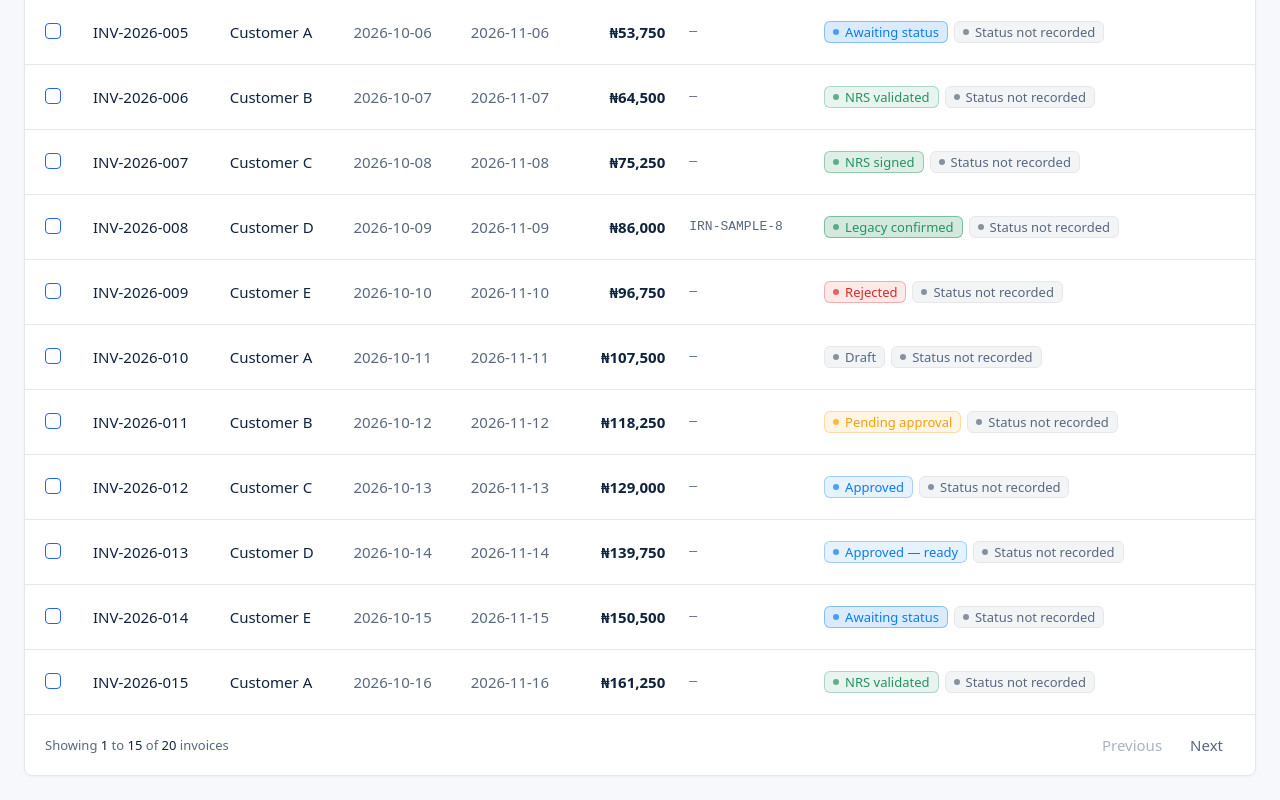
Test case: Invoices Page Workflow › 2. Client-side pagination › paginates 15 rows per page and displays accurate counts
The width and height of the screenshot is (1280, 800).
(page scrolled)
Check: the link "INV-2026-015" is shown, box [93,672,188,692]
Check: the text "INV-2026-016" is not shown
Navigation to the next page
What coordinates should you click on to do the following:
click the button "Next"
I would click on:
 (1207, 744)
Its box is [1178,726,1235,762].
(page scrolled)
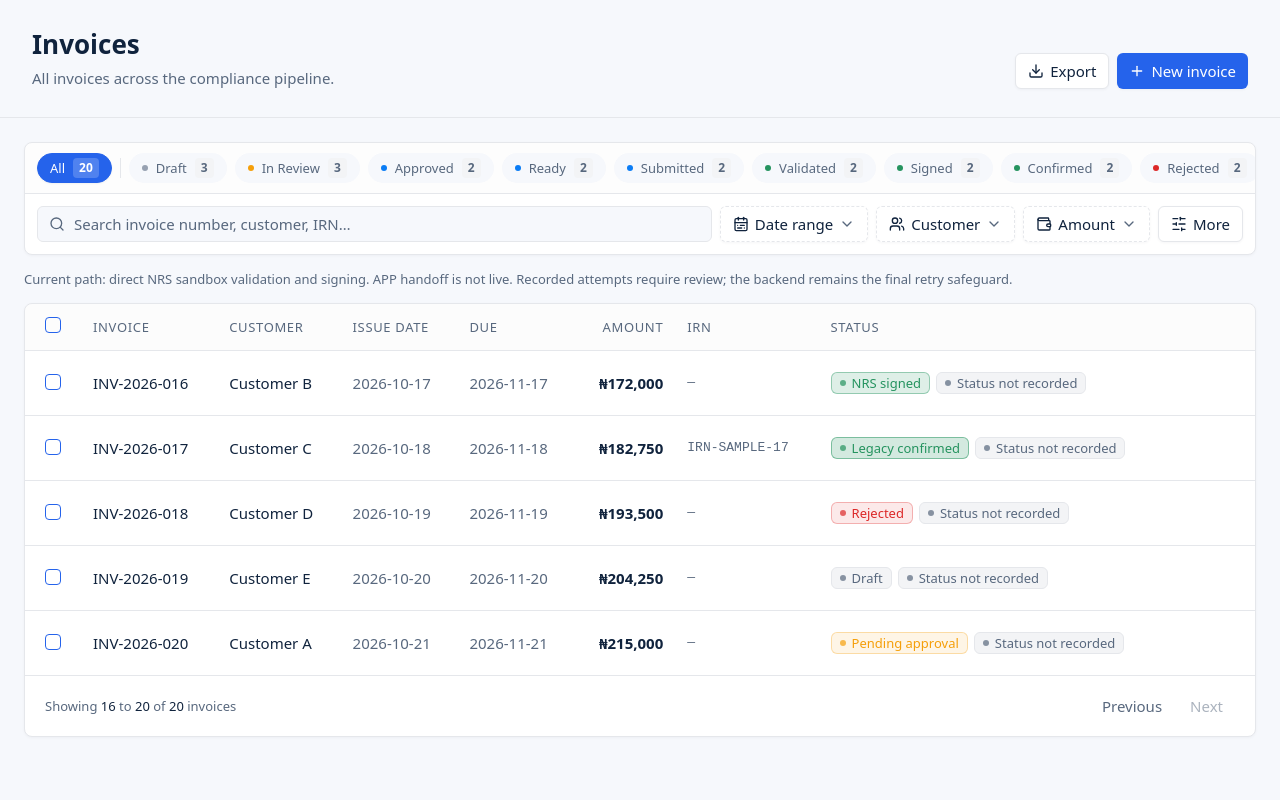
Check: the link "INV-2026-015" is gone
Check: the link "INV-2026-016" is shown, box [93,372,188,392]
Check: the link "INV-2026-020" is shown, box [93,632,188,652]
